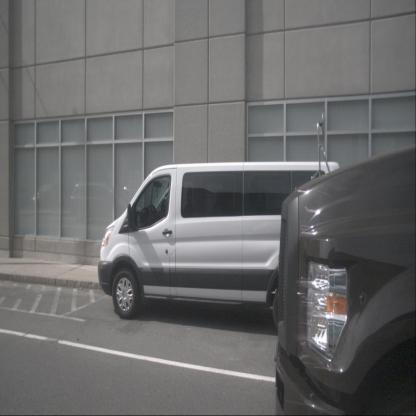vehicle-car: (274, 70, 416, 415), (98, 162, 340, 320), (70, 180, 132, 224)
